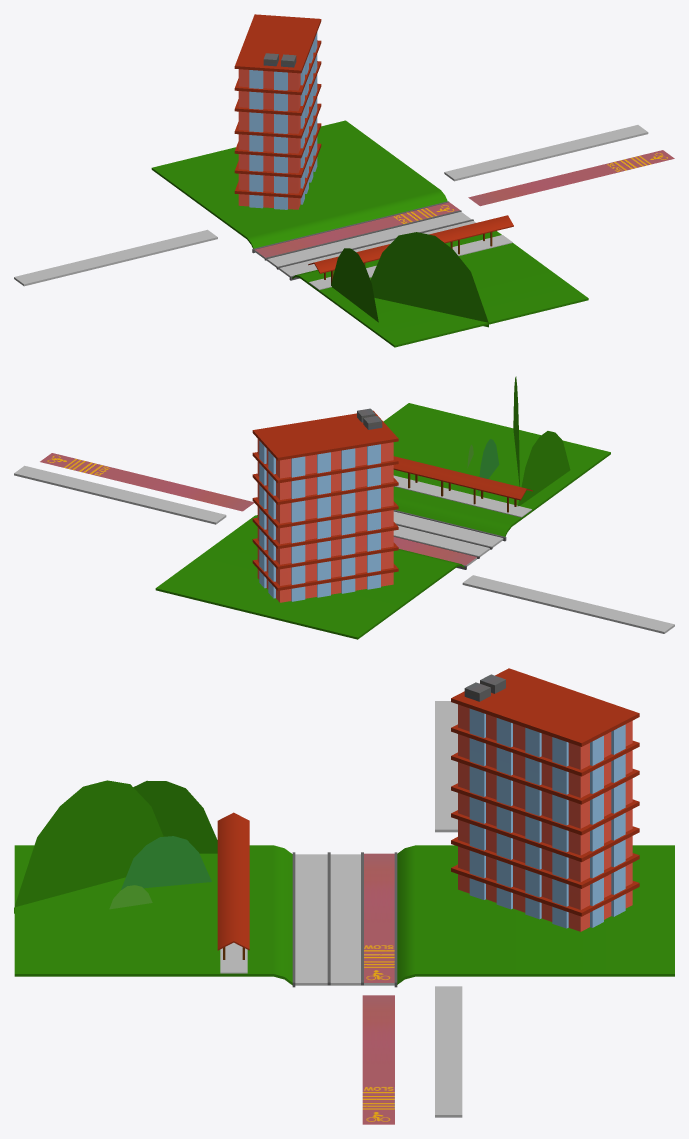
The model's file is Level 1 Chunk 3 V2.fbx.
The picture shows the model from 3 angles, top to bottom: view 1: azimuth 30°, elevation 25°; view 2: azimuth 150°, elevation 25°; view 3: azimuth 270°, elevation 25°; orthographic projection. The views are drawn at different scales.
Visible parts, largest first — view 1: pCube7729, pCube7996, pCube7740, pasted__pasted__pCube5547, pCube7754, pCube7758, pCube7908, pCube7942, pCube7805, pasted__pCube5668, pCube7824, pCube7825; view 2: pCube7996, pCube7740, pCube7729, pCube7758, pCube7908, pCube7942, pCube7754, pasted__pCube5668, pCube7824, pCube7825, pCube7805, pasted__pasted__pCube5548 (+1 smaller); view 3: pCube7996, pCube7729, pCube7740, pasted__pasted__pCube5547, pCube7754, pCube7824, pCube7942, pCube7805, pCube7758, pasted__pCube5668, pasted__pasted__pCube5548, pCube7908 (+2 smaller).
Part boxes in pixels (x1,y1,x2,y2): pCube7729: (151,120,447,248); pCube7996: (234,14,321,209); pCube7740: (292,231,588,347); pasted__pasted__pCube5547: (370,232,488,327); pCube7754: (255,212,475,276); pCube7758: (444,125,648,181); pCube7908: (14,229,217,286); pCube7942: (468,150,674,206); pCube7805: (255,202,459,257); pasted__pCube5668: (331,248,378,322); pCube7824: (308,215,513,273); pCube7825: (309,235,512,289); pCube7996: (252,408,398,602); pCube7740: (383,403,610,536); pCube7729: (155,515,464,639); pCube7758: (14,465,226,524); pCube7908: (462,575,674,633); pCube7942: (40,453,254,511); pCube7754: (393,511,503,566); pasted__pCube5668: (517,431,570,506); pCube7824: (393,456,532,500); pCube7825: (393,475,531,517); pCube7805: (393,537,476,565); pasted__pasted__pCube5548: (477,439,499,492); pCube7996: (451,668,639,931); pCube7729: (397,845,674,984); pCube7740: (14,845,292,985); pasted__pasted__pCube5547: (14,780,163,913); pCube7754: (295,854,394,985); pCube7824: (217,812,249,950); pCube7942: (362,995,394,1124); pCube7805: (364,853,394,982); pCube7758: (435,986,462,1117); pasted__pCube5668: (133,780,217,853); pasted__pasted__pCube5548: (121,836,211,889); pCube7908: (435,701,457,832).
Bounding box in the file's own units: 39.39 × 9.46 × 26.58.
3 materials, 3 textured.
